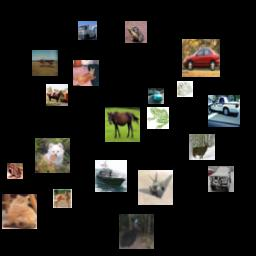airplane: (138, 170, 173, 205), (32, 50, 58, 76)
automobile: (182, 39, 220, 77), (208, 95, 240, 127), (148, 88, 164, 104)
bird: (119, 214, 154, 249)
cat: (2, 194, 37, 229), (73, 60, 99, 86)
deer: (189, 134, 215, 160), (53, 189, 72, 208)
dog: (35, 138, 70, 173), (177, 81, 193, 97)
frog: (125, 21, 147, 43), (147, 107, 169, 129), (7, 163, 23, 179)
ship: (95, 160, 127, 192)
truck: (208, 166, 234, 192), (78, 21, 97, 40)
